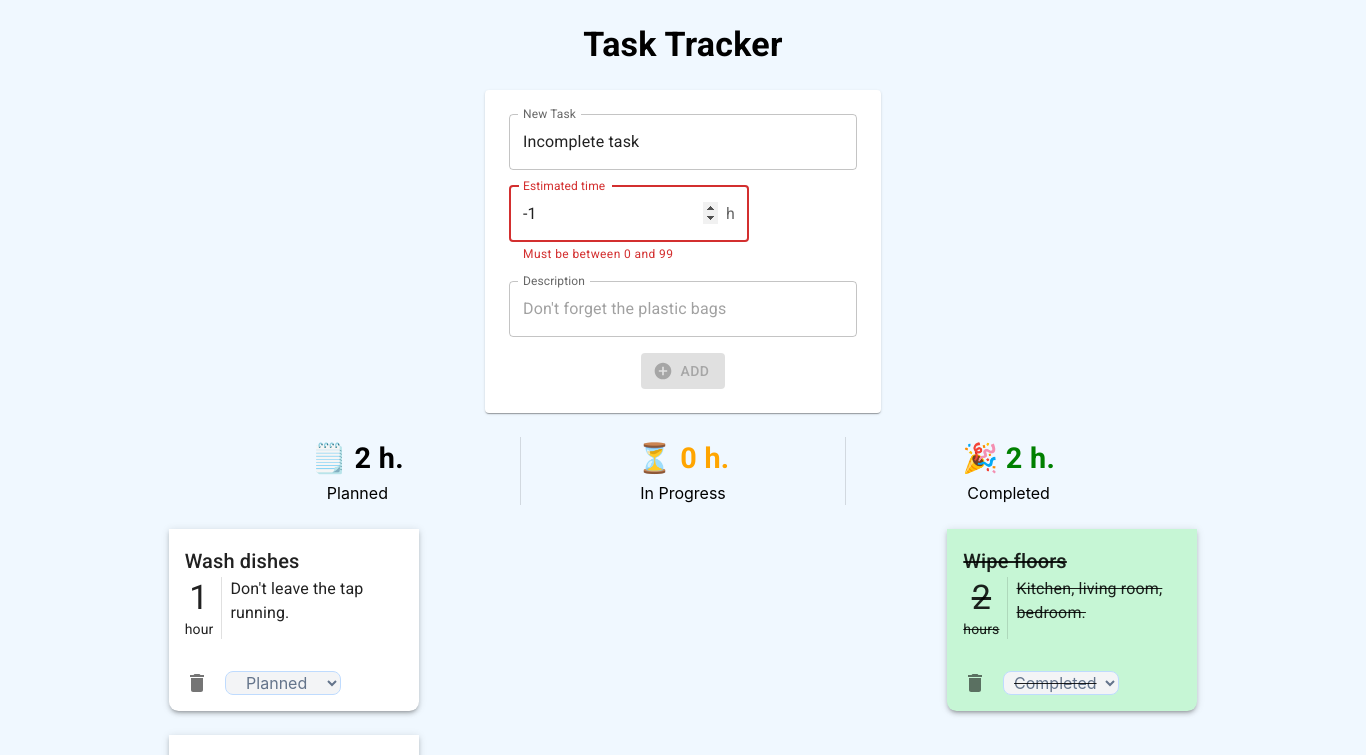
it: Add task › disallows creating tasks twice
This screenshot has width=1366, height=755.
Replace the text in the field named "name" with "Test task". click: point(683, 142)
box: [509,114,857,170]
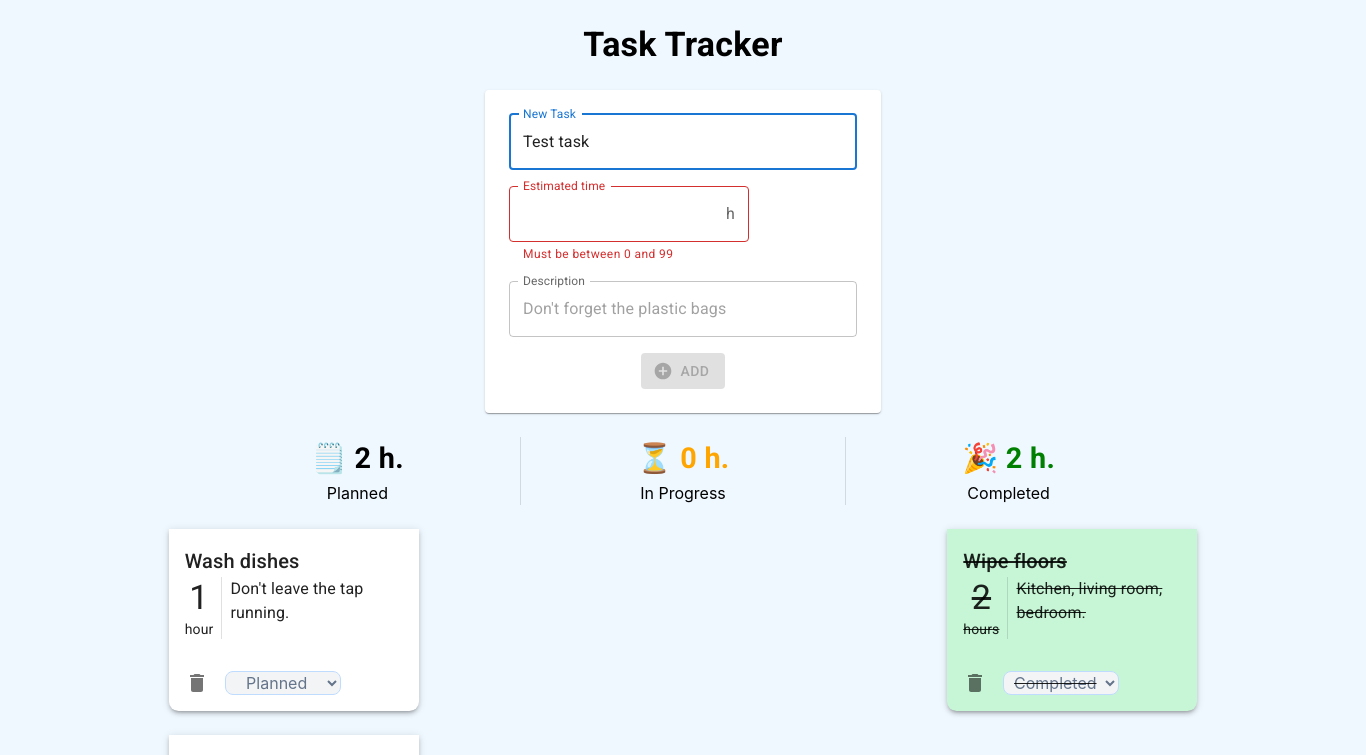
Type "1" into the number field named "estimate". click: point(614, 214)
box: [509,186,718,242]
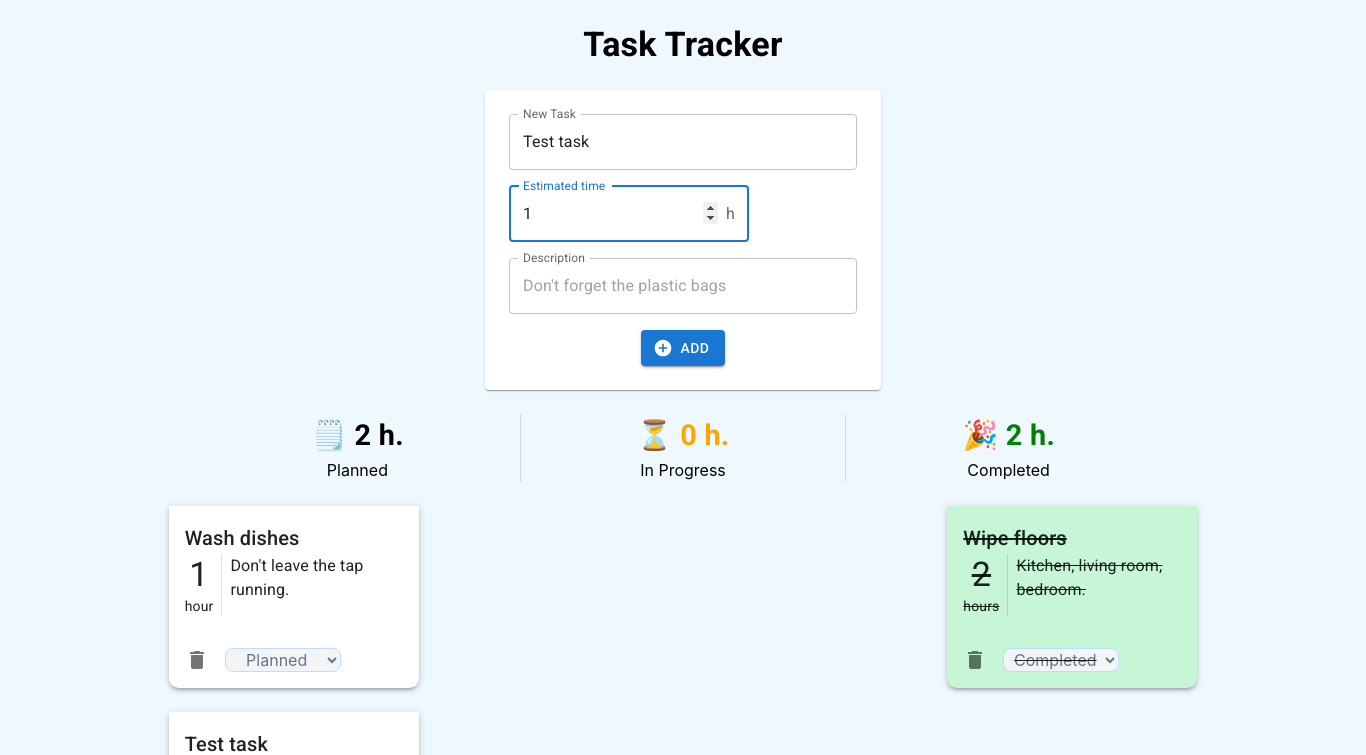
Click the button "Add". click: point(684, 349)
box: [641,330,726,367]
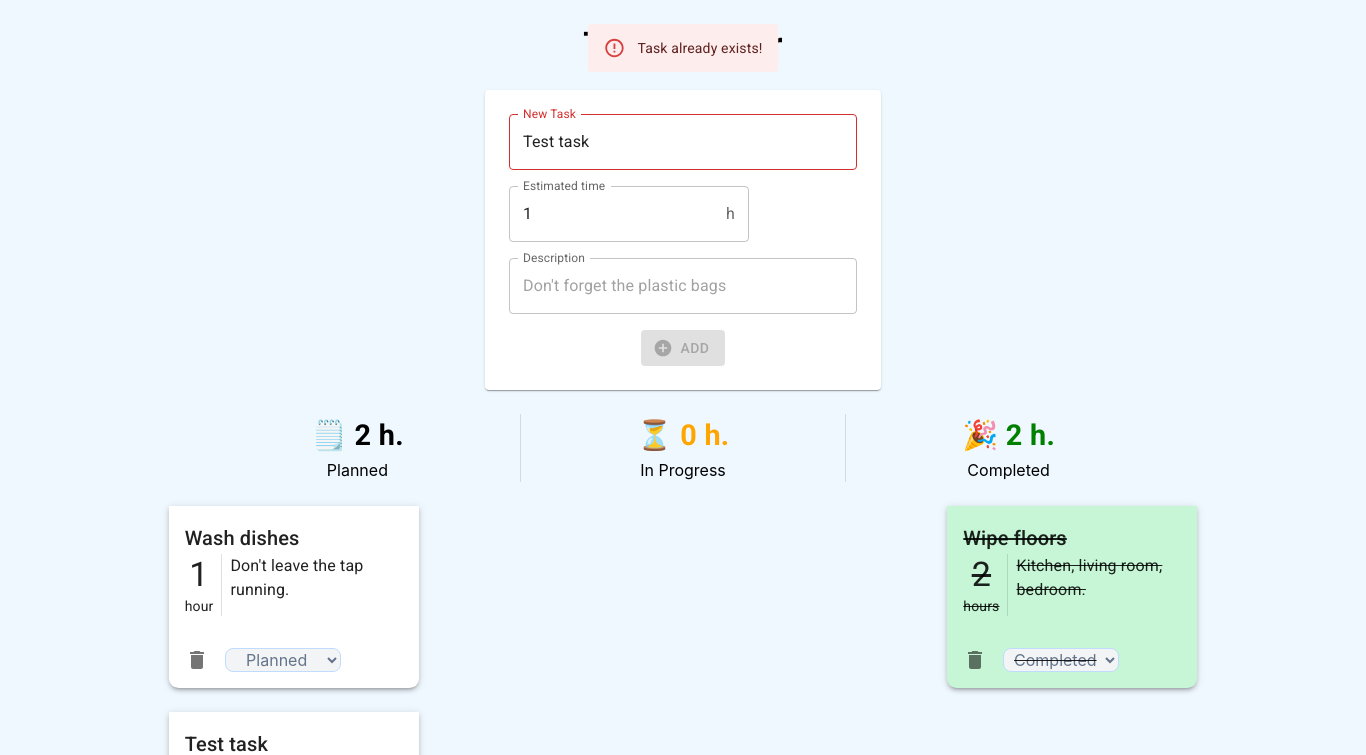
Check: the text "Task already exists!" is shown, box [638,40,763,56]
